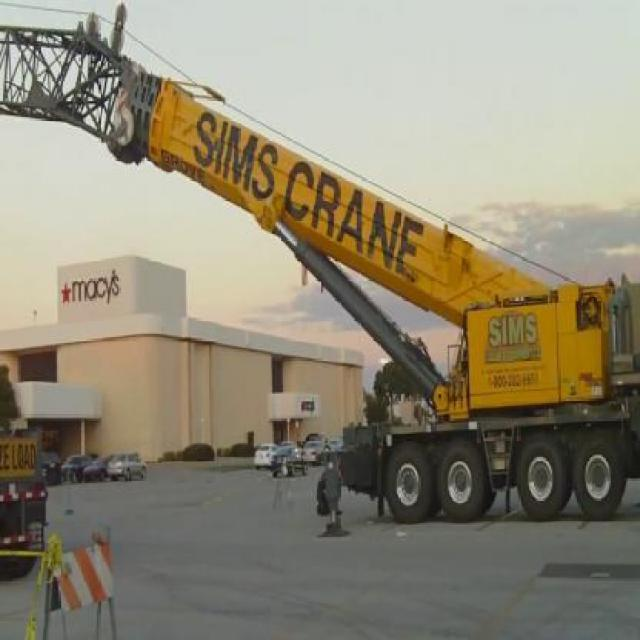Mobile Crane: (1, 2, 634, 535)
